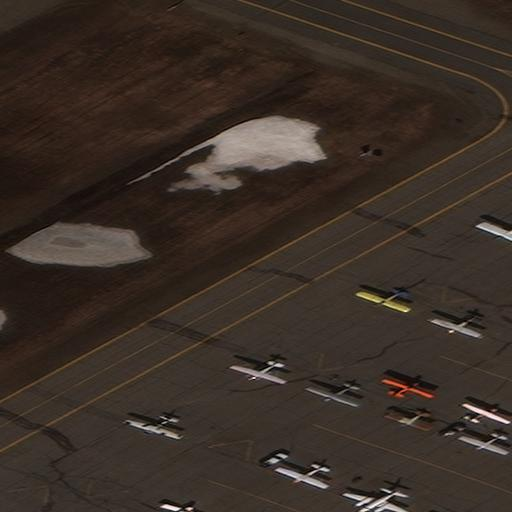Small Civil Transport: (341, 490, 405, 512), (122, 416, 179, 440), (273, 464, 324, 489), (353, 289, 405, 313), (304, 384, 357, 407), (228, 362, 282, 384), (426, 315, 477, 338), (457, 433, 506, 455), (463, 402, 511, 422), (384, 378, 434, 397), (383, 411, 427, 431), (475, 222, 512, 243), (161, 502, 199, 512)
